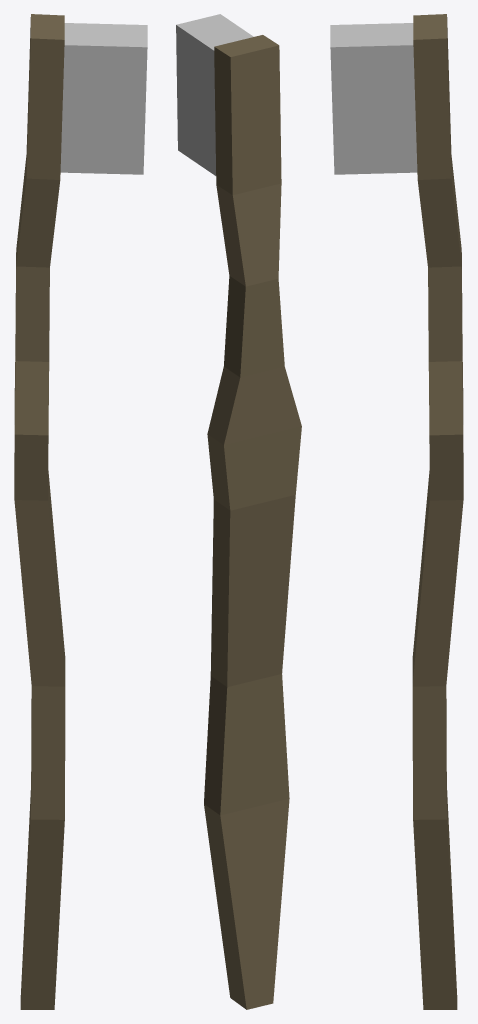
File: EscovaDeDentes.fbx
3 views of the same model, side by side, from view 1: azimuth 90°, elevation 25°; view 2: azimuth 210°, elevation 25°; view 3: azimuth 270°, elevation 25° (orthographic). The views are drawn at different scales.
Parts seen in each view (by area): view 1: EscovaDeDentes; view 2: EscovaDeDentes; view 3: EscovaDeDentes.
Part boxes in pixels (x1,y1,x2,y2): EscovaDeDentes: (14,14,147,1009); EscovaDeDentes: (176,14,301,1009); EscovaDeDentes: (330,14,463,1009).
Size of the model in its own units: 53.05 by 618 by 76.28.
